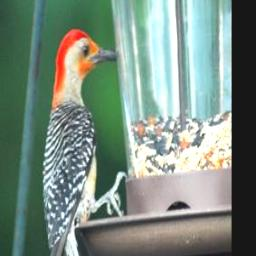Woodpecker: (40, 28, 127, 256)
